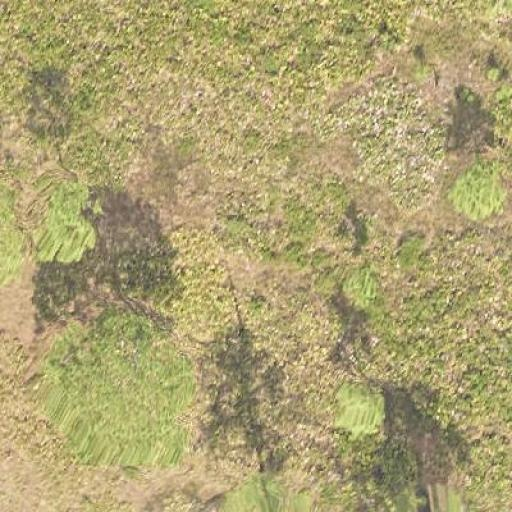tree-top: (49, 316, 187, 465), (24, 178, 98, 266), (223, 475, 313, 512), (446, 160, 502, 219), (332, 379, 386, 438), (338, 262, 385, 308)
